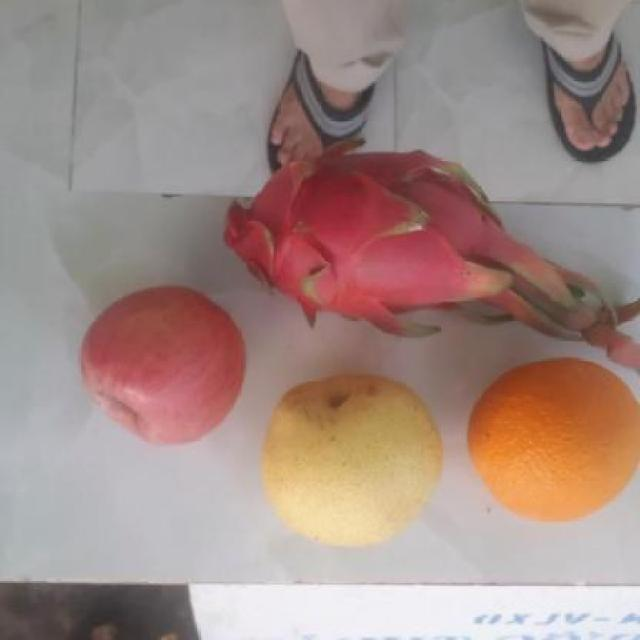apple: (71, 285, 244, 447)
dragon fruit: (209, 154, 500, 334)
oren: (463, 360, 640, 529)
pear: (251, 379, 448, 546)
